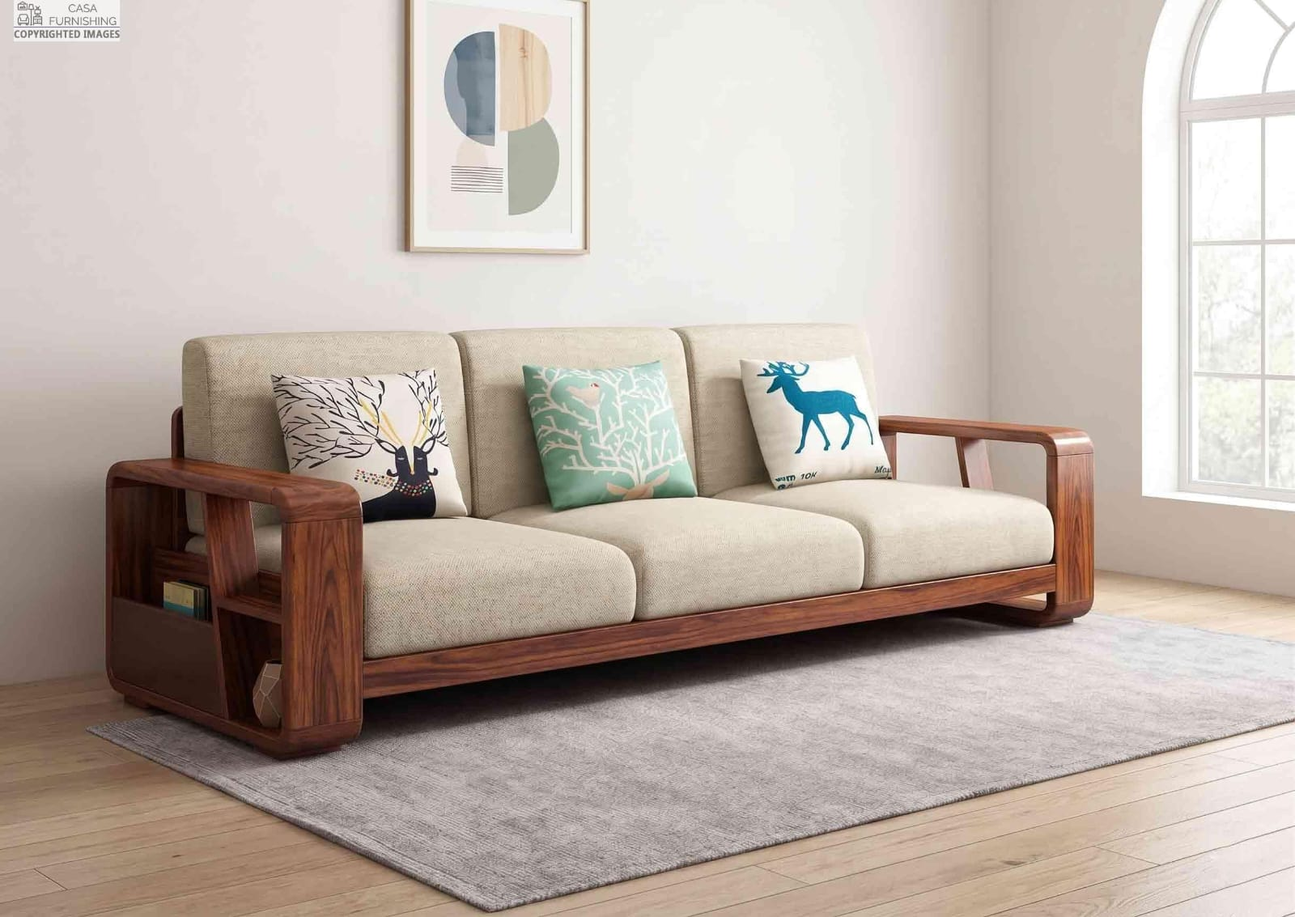3seatersofa: (107, 324, 1093, 755), (108, 325, 1091, 754)
backrest: (168, 324, 888, 516)
base: (356, 563, 1054, 698)
leftarmrest: (878, 411, 1095, 617)
leg: (119, 700, 326, 761), (961, 607, 1072, 625)
pillow: (277, 360, 463, 520), (522, 356, 698, 510), (743, 352, 892, 492)
rightarmrest: (107, 457, 360, 755)
seat: (366, 475, 1052, 662)
